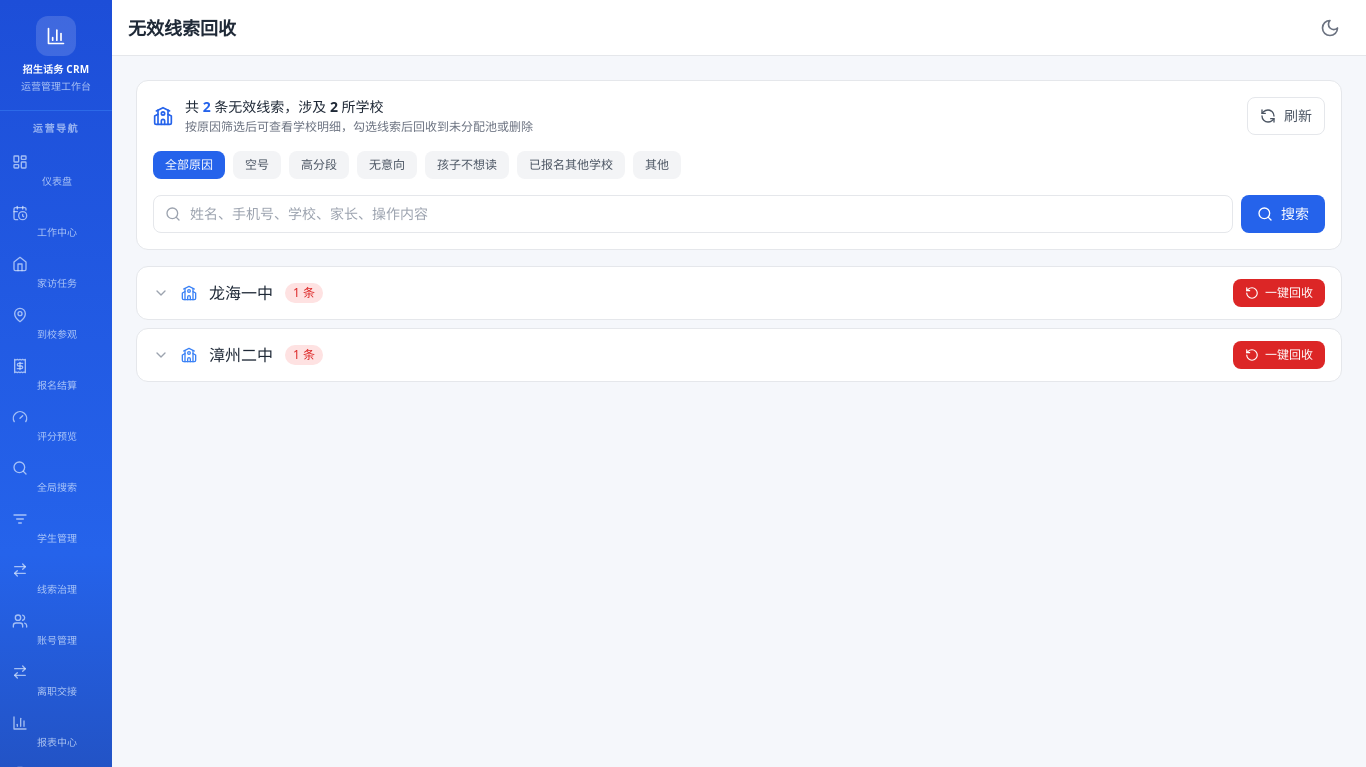
Scenario: InvalidStudentReclaim › prevents enrolled-elsewhere rows and filters from being reclaimed
The width and height of the screenshot is (1366, 767).
Click the text "龙海一中". click: (241, 293)
box: [209, 281, 273, 305]
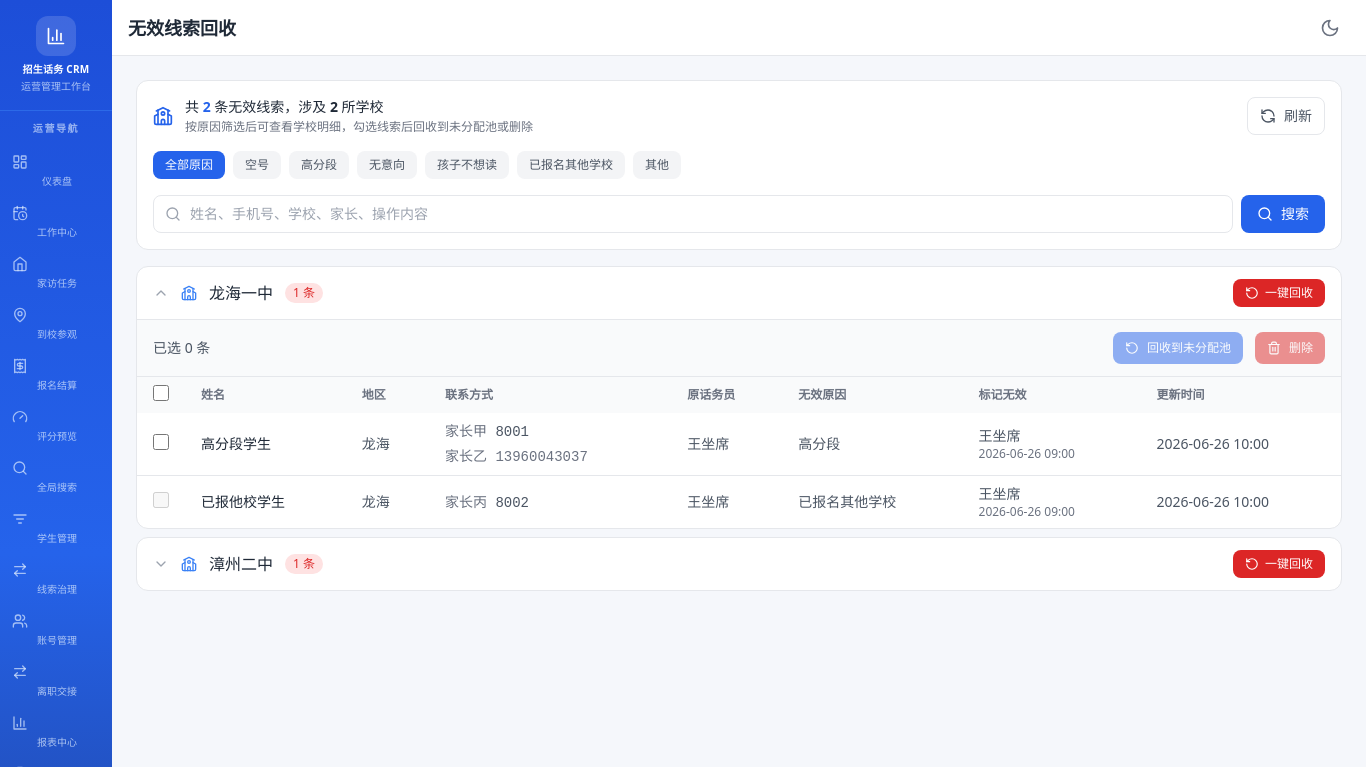
Check: the checkbox named "选择已报他校学生" is disabled, box [153, 492, 169, 508]
Click the checkbox named "选择当前学校全部无效线索". click: (161, 393)
box: [153, 385, 169, 401]
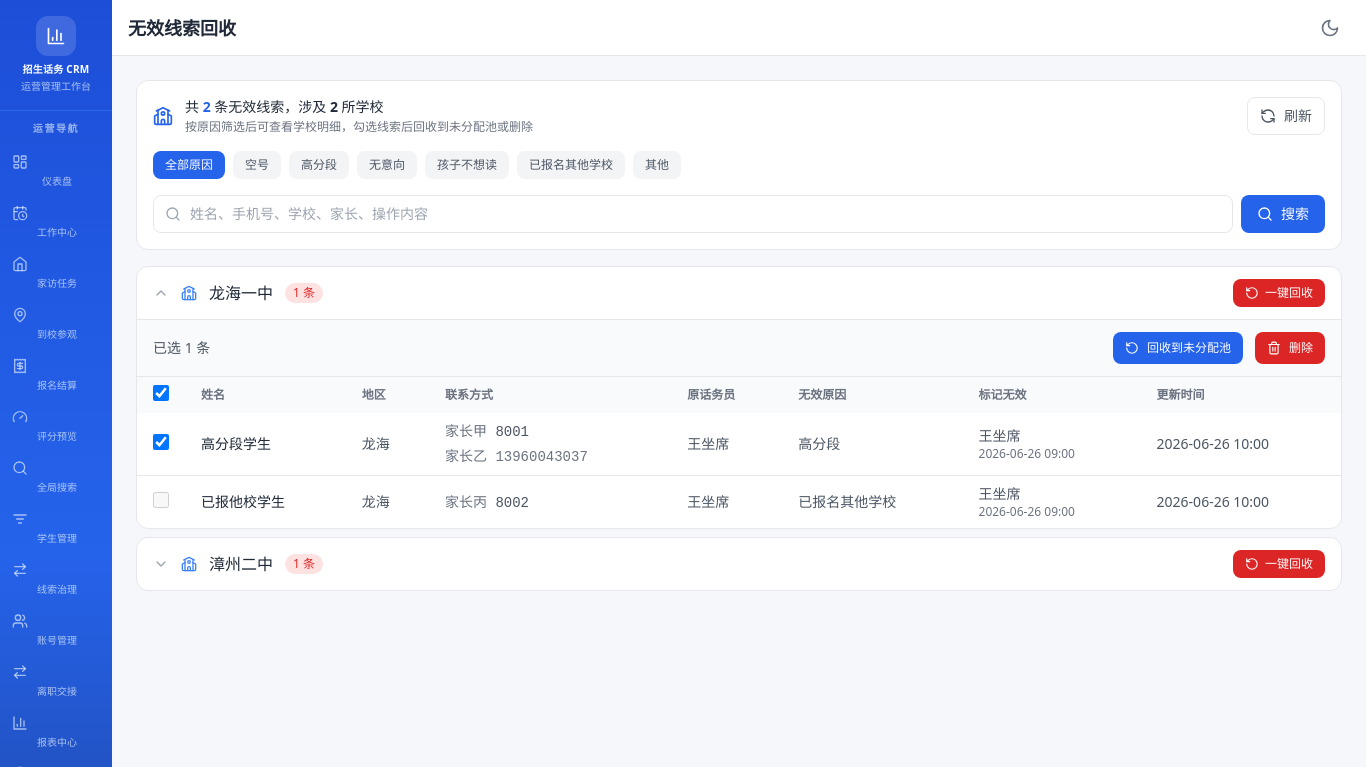
Click the button "回收到未分配池". click: (1178, 348)
box: [1113, 332, 1243, 364]
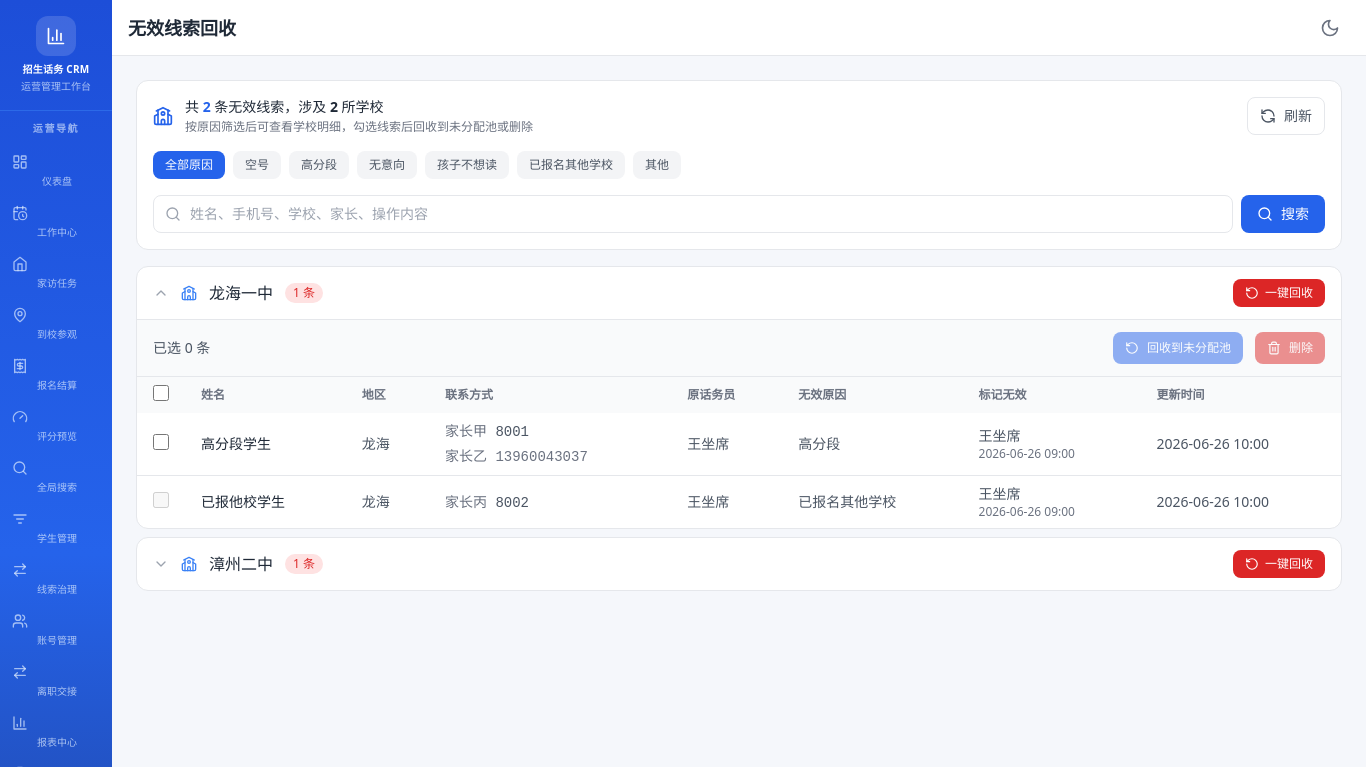
Click the button "已报名其他学校". click: (571, 165)
box: [517, 151, 625, 179]
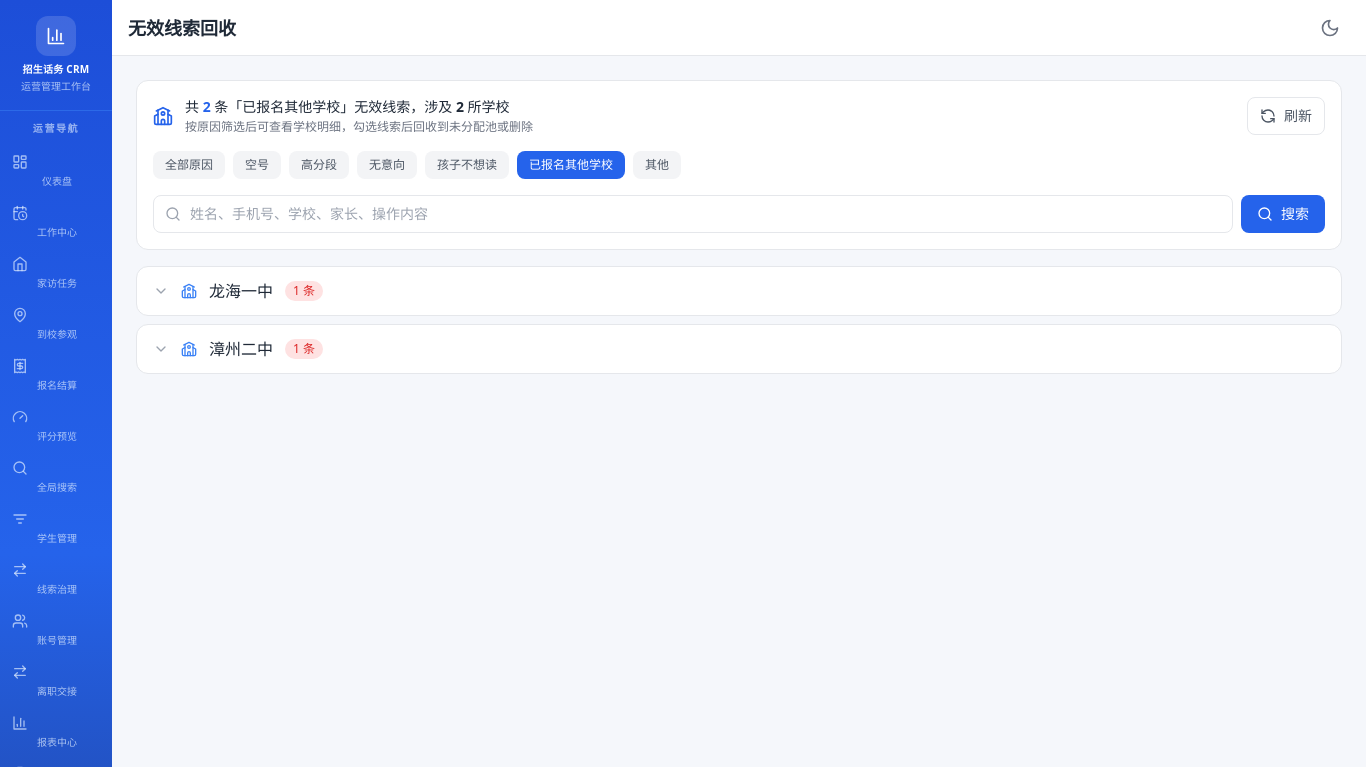
Check: the button "一键回收" is gone
